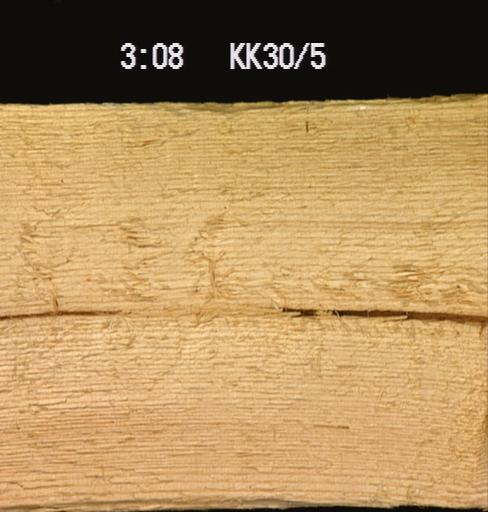wave: (52, 488, 314, 510)
